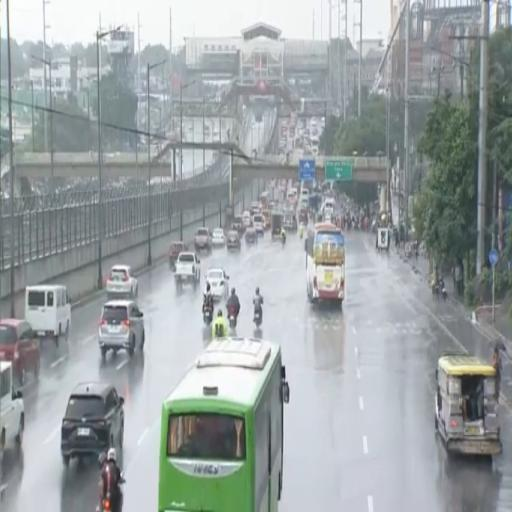bus: (159, 339, 289, 511), (305, 223, 345, 306), (260, 191, 269, 210)
car: (61, 382, 124, 466), (98, 300, 145, 359), (26, 284, 70, 345), (0, 318, 40, 385), (0, 362, 25, 451), (106, 265, 138, 299), (175, 252, 200, 287), (206, 268, 229, 300), (169, 242, 188, 269), (194, 227, 212, 252), (227, 230, 241, 250), (283, 214, 297, 231), (232, 216, 245, 234), (212, 229, 225, 247), (253, 214, 264, 235), (245, 228, 257, 244), (243, 211, 251, 229), (251, 202, 260, 215)
jeepney: (435, 354, 501, 455)
motorcycle: (96, 494, 112, 511), (203, 303, 212, 325), (439, 280, 447, 300), (228, 308, 236, 328), (254, 309, 261, 327), (432, 283, 440, 298), (282, 236, 285, 246)
truck: (271, 213, 282, 237)
